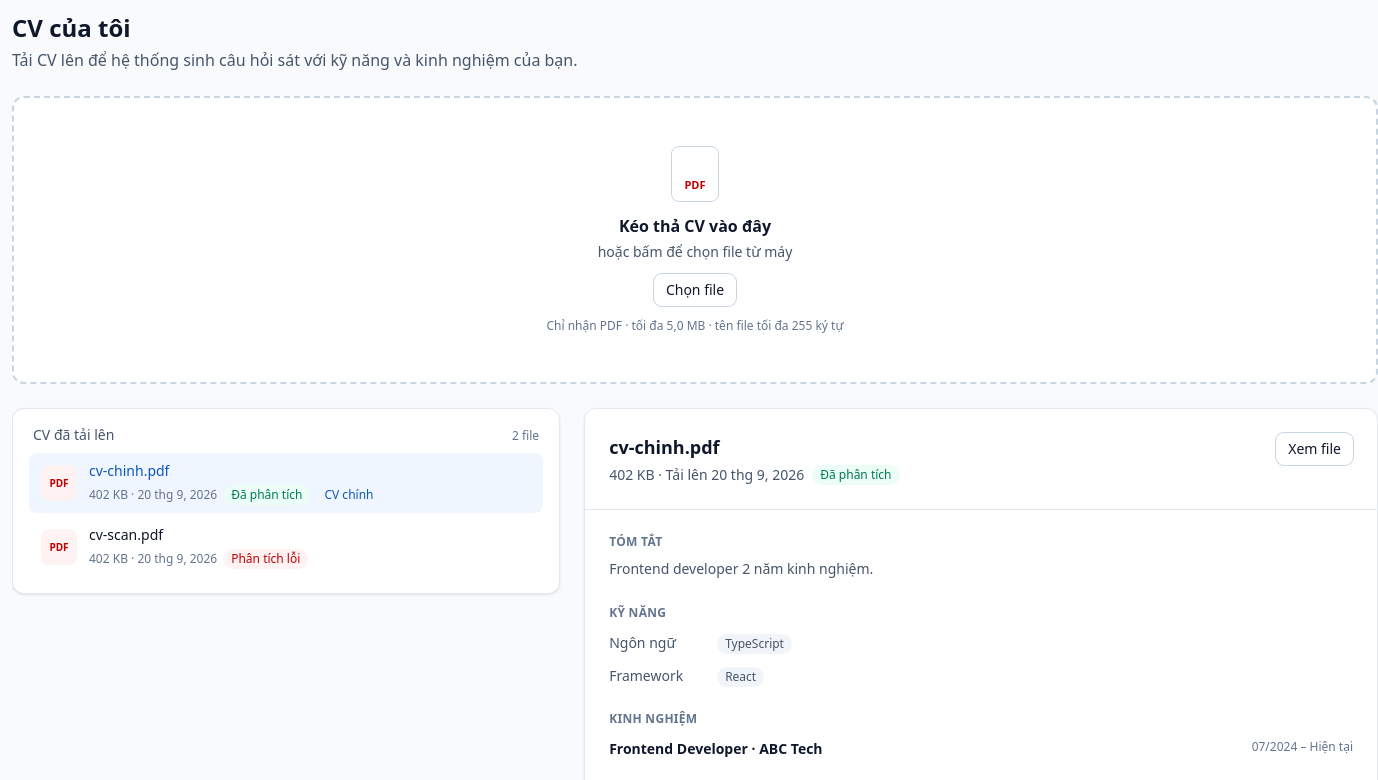
Test case: selecting a failed CV shows the failure message
Check: the heading "cv-chinh.pdf" is shown, box [609,435,720,459]
Step 1. Click the button "cv-scan.pdf" → [286, 547], box [29,517,543,577]
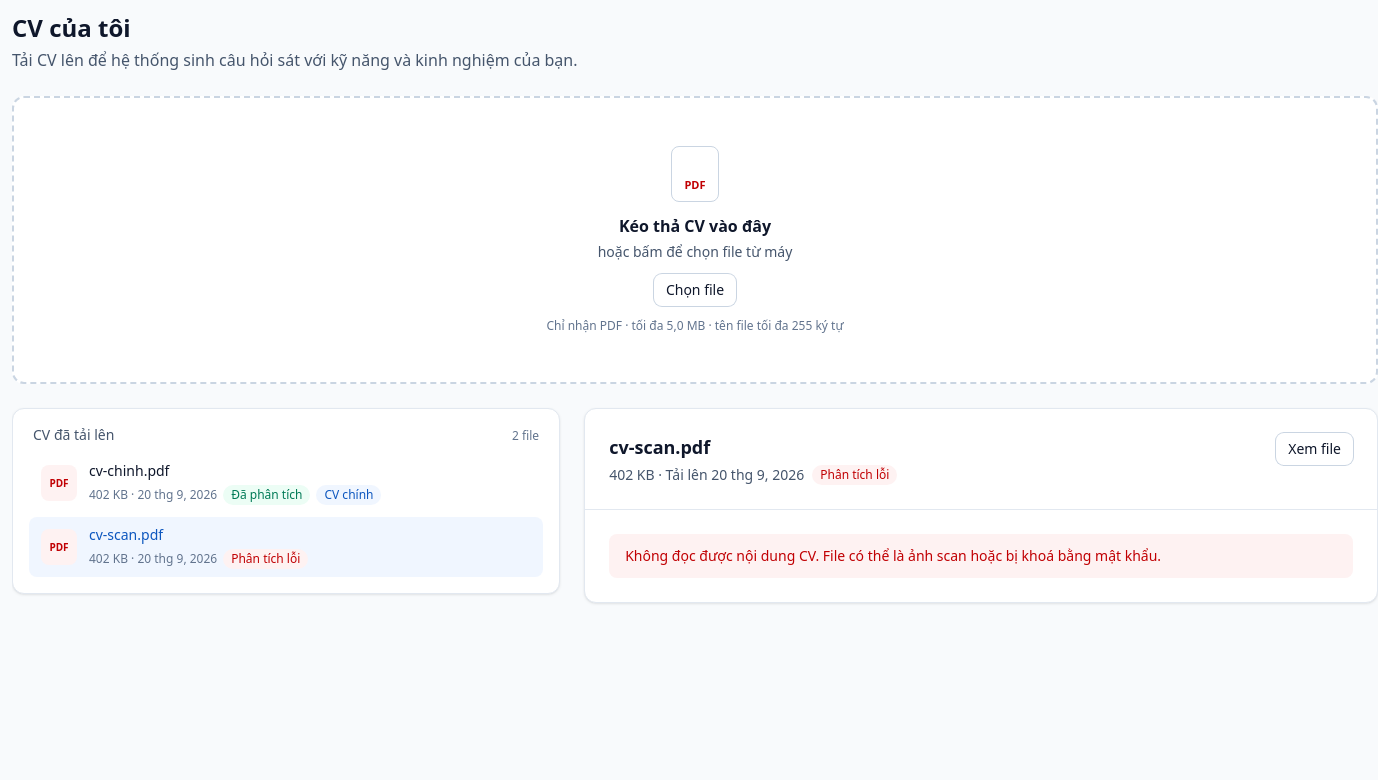
Check: the heading "cv-scan.pdf" is shown, box [609,435,710,459]
Check: the message shows "Không đọc được nội dung CV", box [625,546,1161,565]
